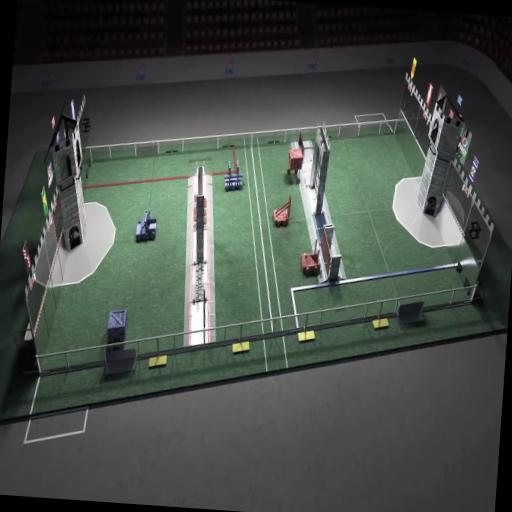robot: (103, 308, 135, 348), (298, 242, 326, 280), (222, 157, 248, 196), (284, 146, 307, 190), (134, 210, 162, 244), (272, 196, 296, 230)
